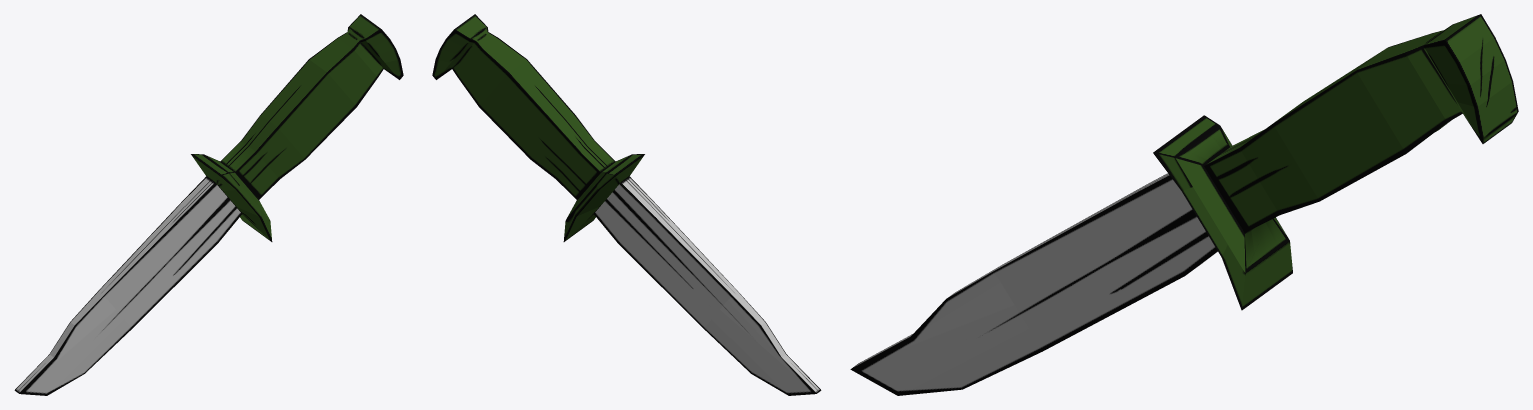
The model's file is knife.fbx.
3 renders of one model, left to right at view 1: azimuth 30°, elevation 25°; view 2: azimuth 150°, elevation 25°; view 3: azimuth 330°, elevation 25°, orthographic. The views are drawn at different scales.
Visible parts, largest first — view 1: knife; view 2: knife; view 3: knife.
Part boxes in pixels (<box>): knife: <box>14,14,403,395</box>; knife: <box>432,14,821,395</box>; knife: <box>850,14,1518,395</box>.
Bounding box in the file's own units: 2.73 × 2.03 × 0.3764.
1 material, 1 textured.
